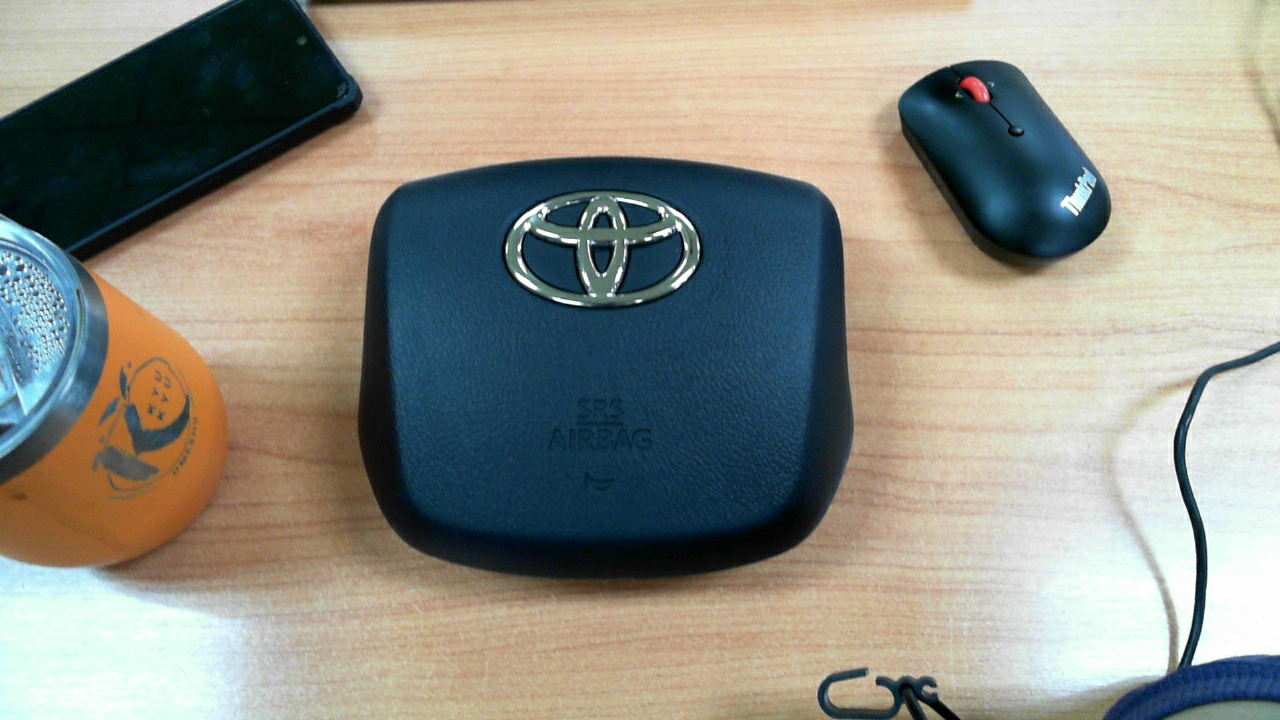Airbag: (319, 124, 888, 624)
